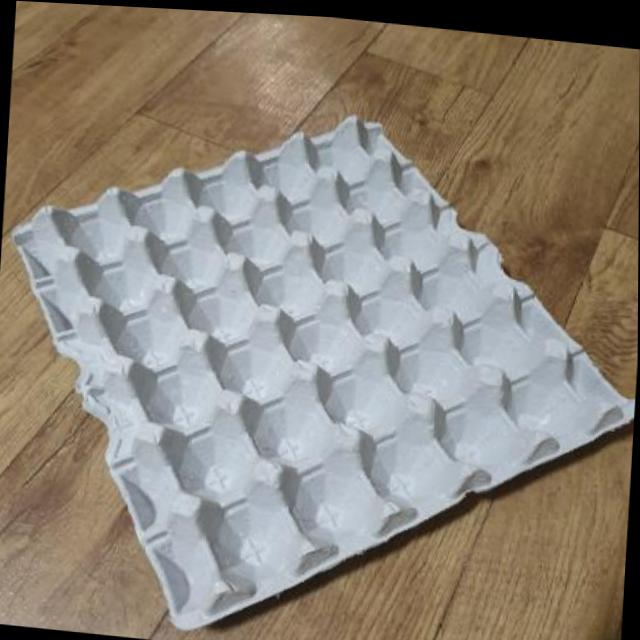box: (0, 67, 640, 640)
